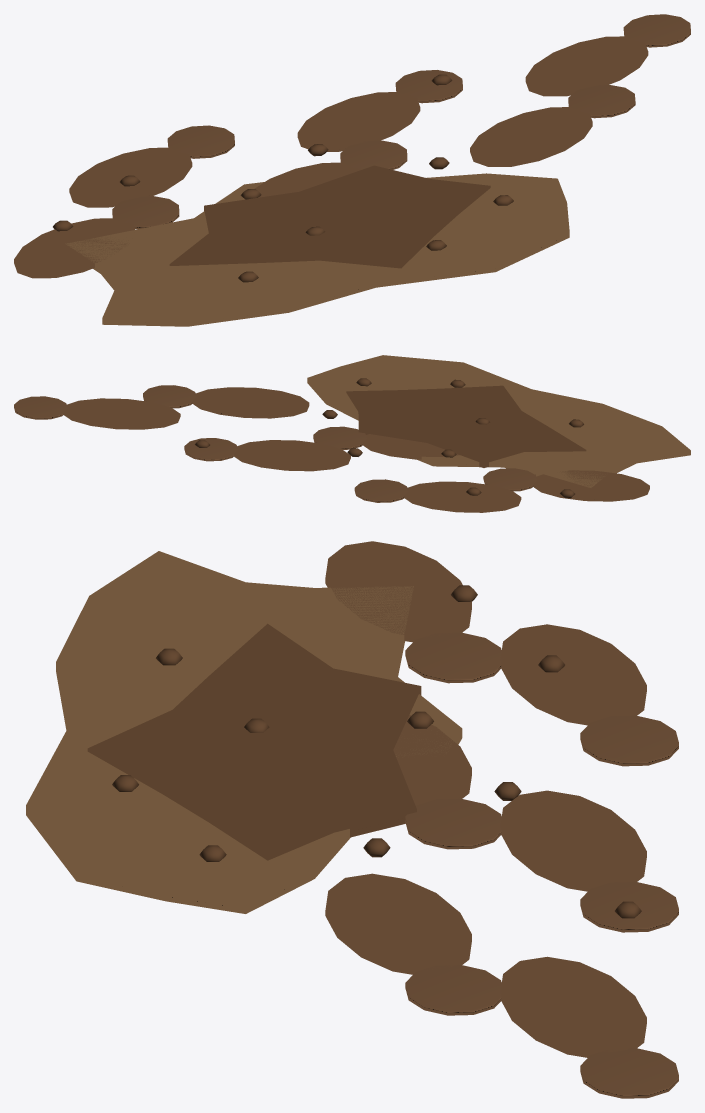
File: staff-dirt-a.fbx
3 views of the same model, one above another, from view 1: azimuth 30°, elevation 25°; view 2: azimuth 150°, elevation 25°; view 3: azimuth 270°, elevation 25° (orthographic). The views are drawn at different scales.
Visible parts, largest first — view 1: Body; view 2: Body; view 3: Body.
Boxes of the visible parts, x1,y1,x2,y2 form: Body: [14, 14, 690, 326]; Body: [14, 355, 690, 512]; Body: [26, 541, 678, 1098].
Bounding box in the file's own units: 1.19 × 0.0195 × 0.5977.
